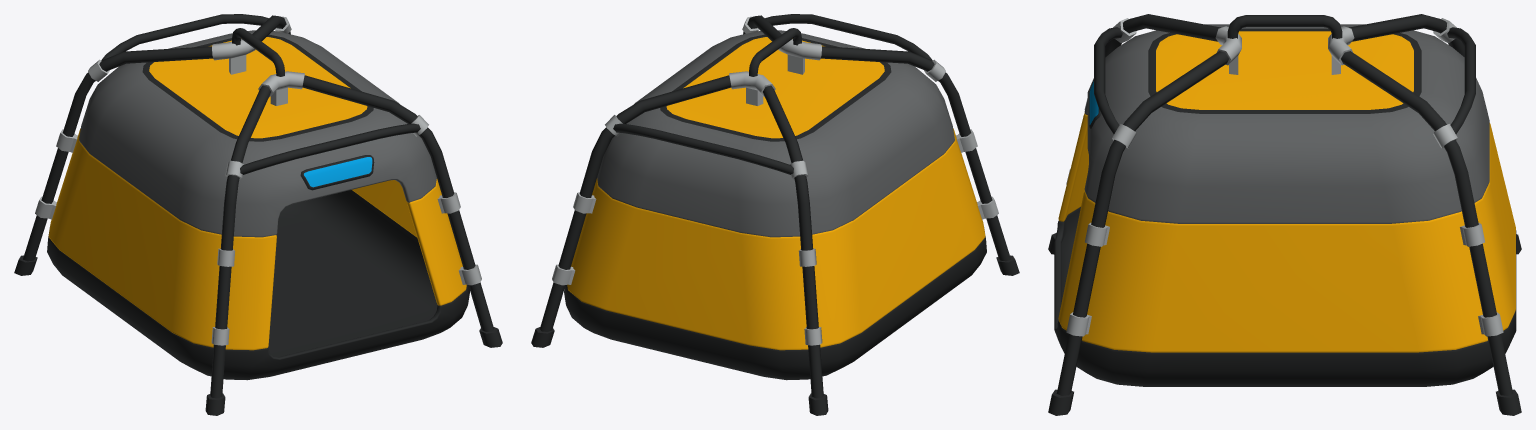
File: Tent_001.fbx
The picture shows the model from 3 angles, left to right: view 1: azimuth 30°, elevation 25°; view 2: azimuth 150°, elevation 25°; view 3: azimuth 270°, elevation 25°; orthographic projection. The views are drawn at different scales.
Visible parts, largest first — view 1: Tent_001; view 2: Tent_001; view 3: Tent_001.
Part boxes in pixels (x1,y1,x2,y2): Tent_001: [14, 14, 502, 415]; Tent_001: [531, 14, 1019, 415]; Tent_001: [1048, 14, 1521, 415].
Bounding box in the file's own units: 442 × 521 × 382.
